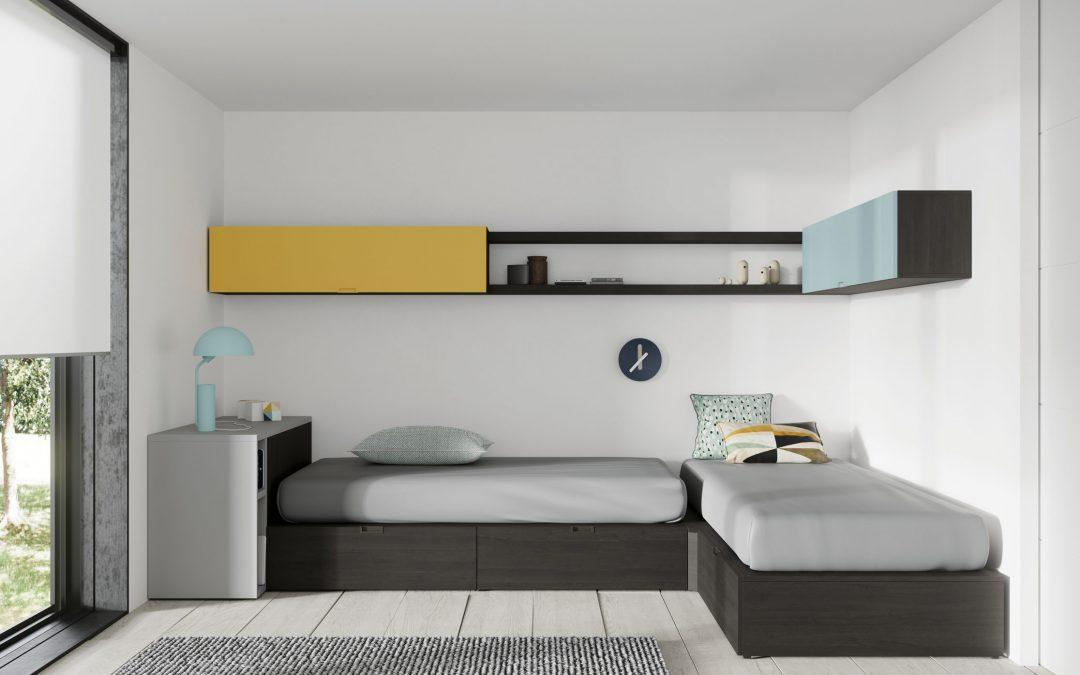bed: (285, 418, 688, 515)
